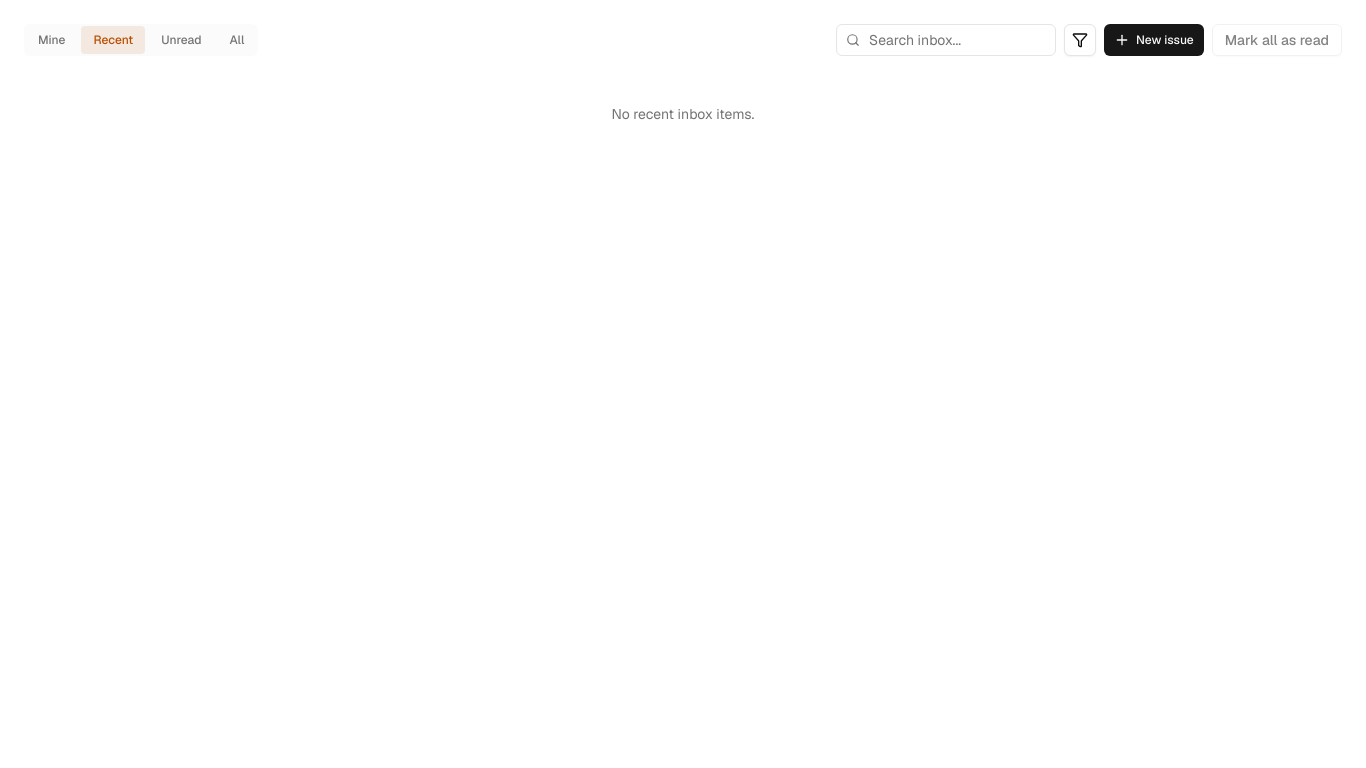
Test: InboxPage › clicking 'New issue' opens NewIssueDialog
The image size is (1366, 768).
Click the button "New issue": (1154, 40) [1104,24,1204,56]
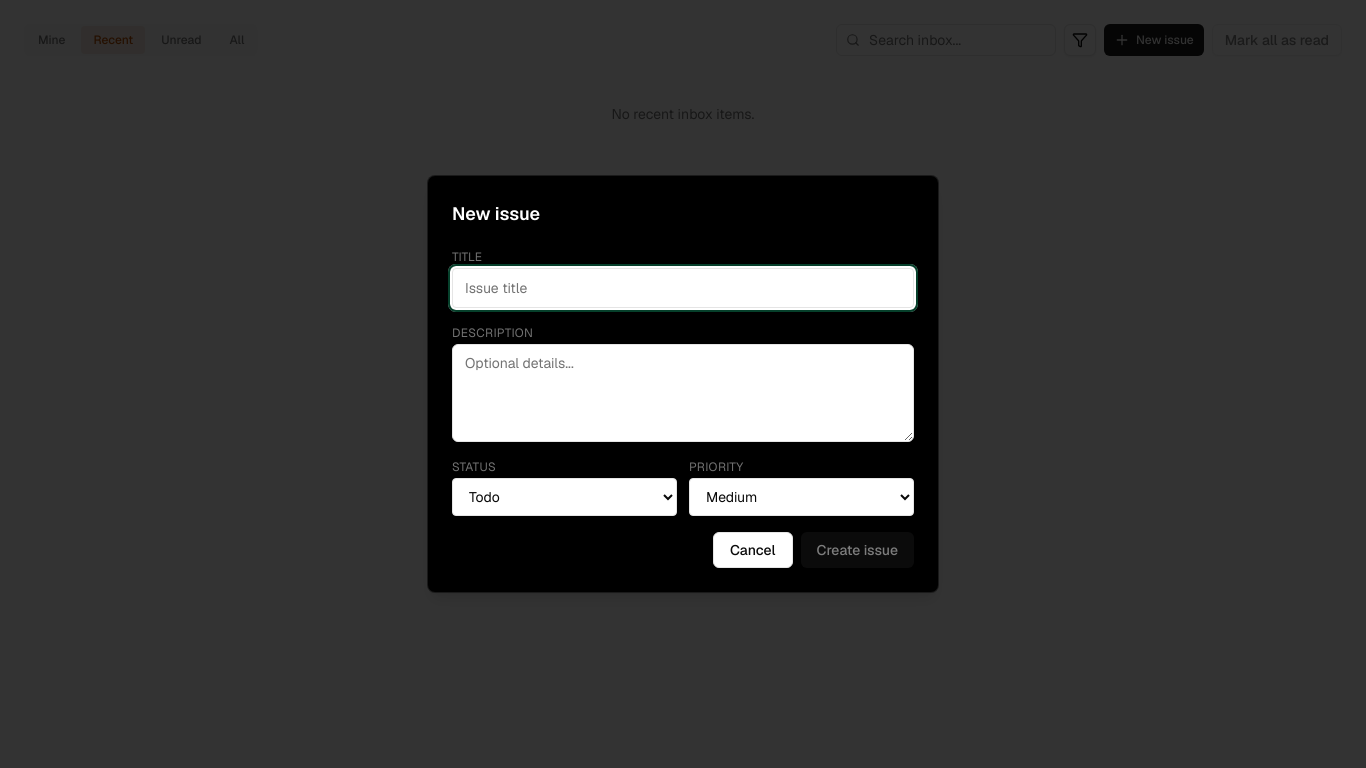
Expected: the dialog "New issue" is shown, [427,175,939,593]
